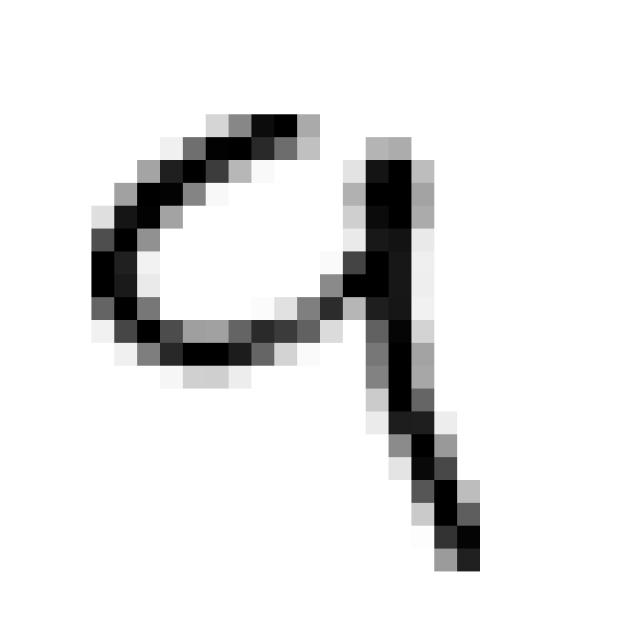9 -nine-: (71, 87, 501, 598)
